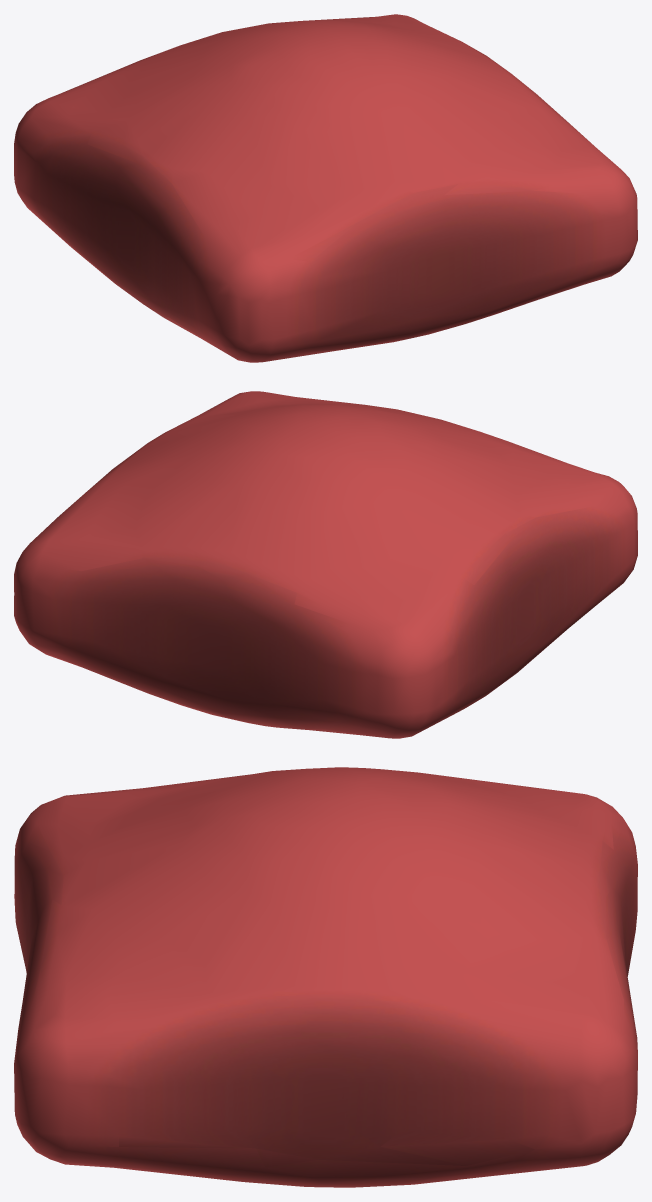
The model's file is Pillow-Pink.fbx.
3 renders of one model, top to bottom at view 1: azimuth 30°, elevation 25°; view 2: azimuth 150°, elevation 25°; view 3: azimuth 270°, elevation 25°, orthographic. The views are drawn at different scales.
Visible parts, largest first — view 1: Polygon_Reduction; view 2: Polygon_Reduction; view 3: Polygon_Reduction.
Boxes of the visible parts, x1,y1,x2,y2 form: Polygon_Reduction: [14, 14, 637, 362]; Polygon_Reduction: [14, 391, 637, 738]; Polygon_Reduction: [14, 767, 637, 1187].
Size of the model in its own units: 3.92 by 2.39 by 3.92.
1 material, 1 textured.
